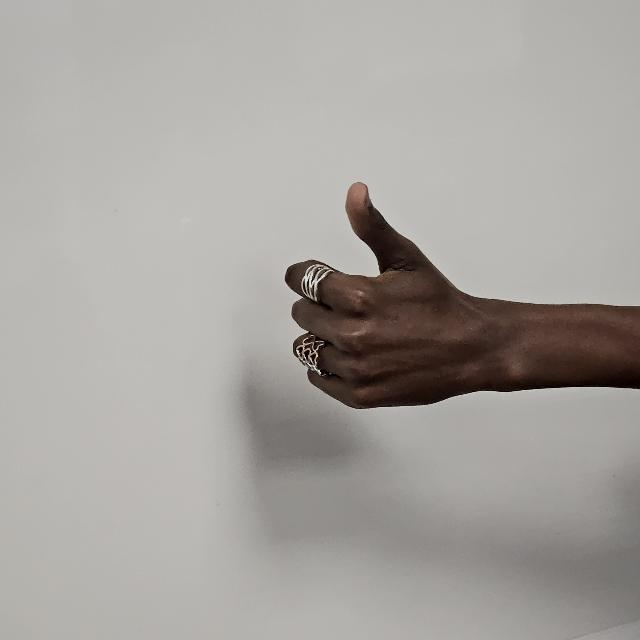Start: (284, 176, 504, 442)
